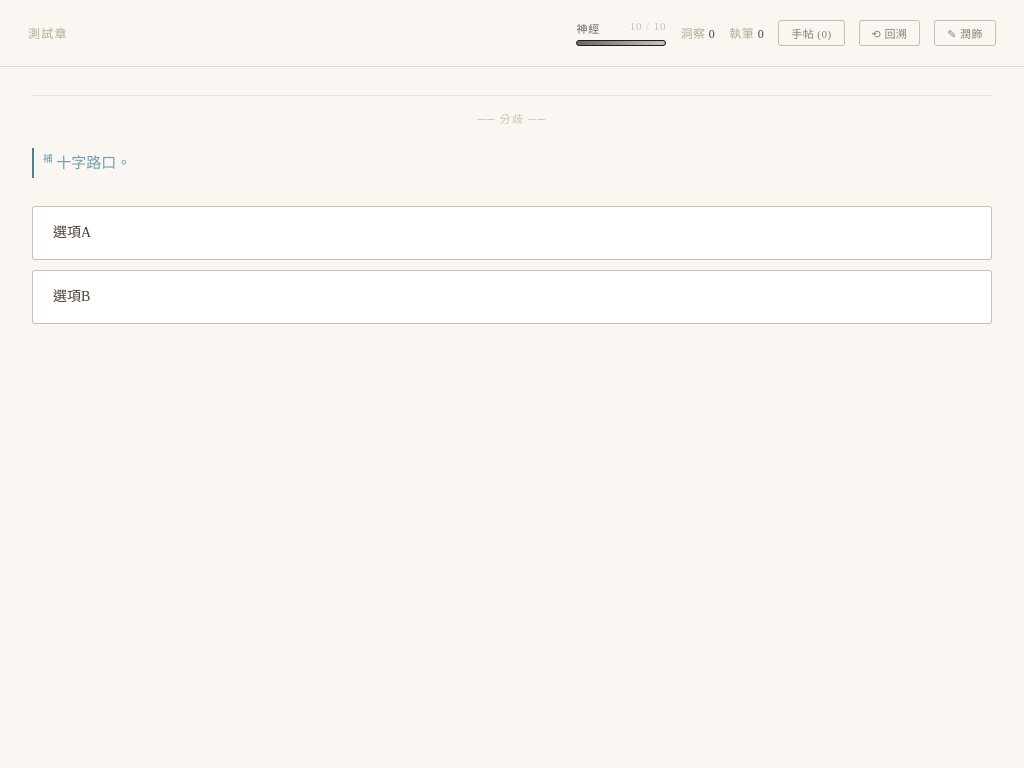
it: HagurumaEngine — 選項回溯 › 點擊 checkpoint → confirm 後恢復快照 state（深拷貝隔離：effects 造成的數值改動正確復原）
Click the button "選項A".
click(72, 232)  # box [32,206,992,260]
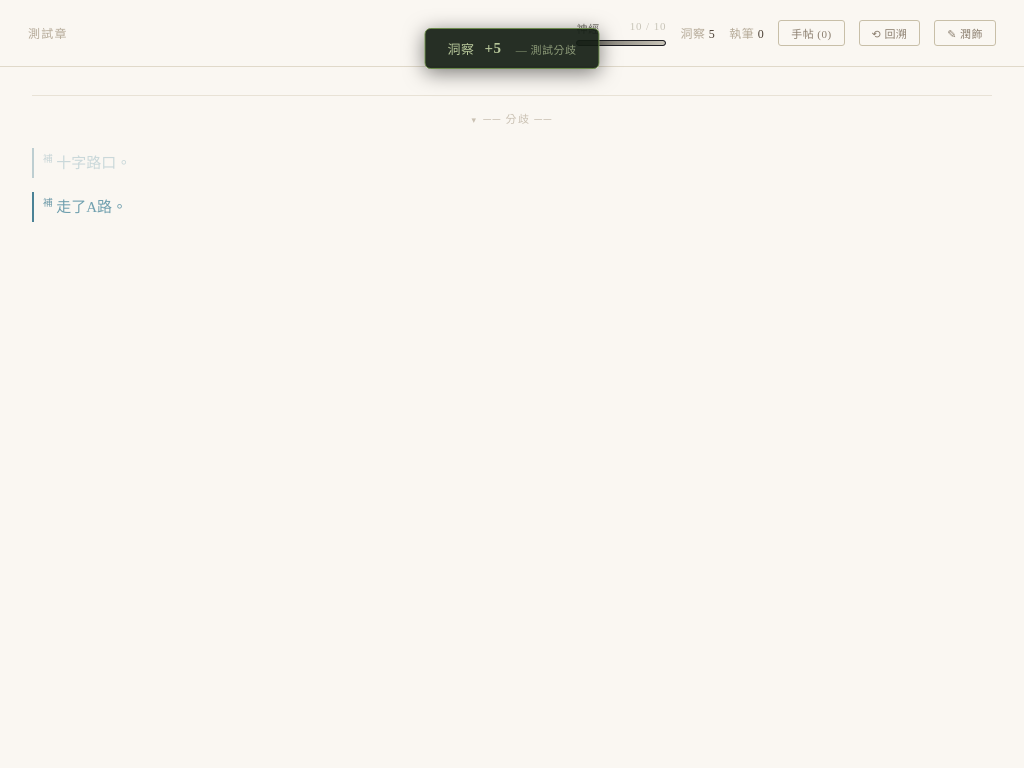
Expected: the text "走了A路。" is shown, [32,192,992,222]
Click the button "⟲ 回溯".
click(889, 33)  # box [858,20,920,46]
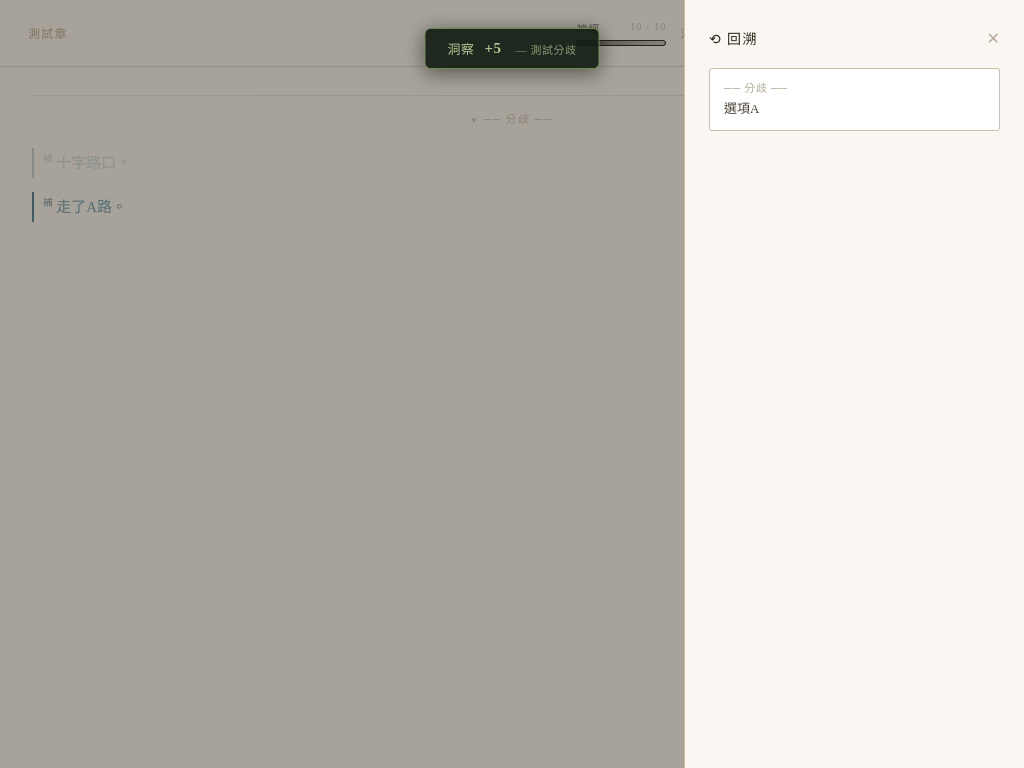
Click the button "── 分歧 ── 選項A".
click(756, 88)  # box [709,68,1000,131]
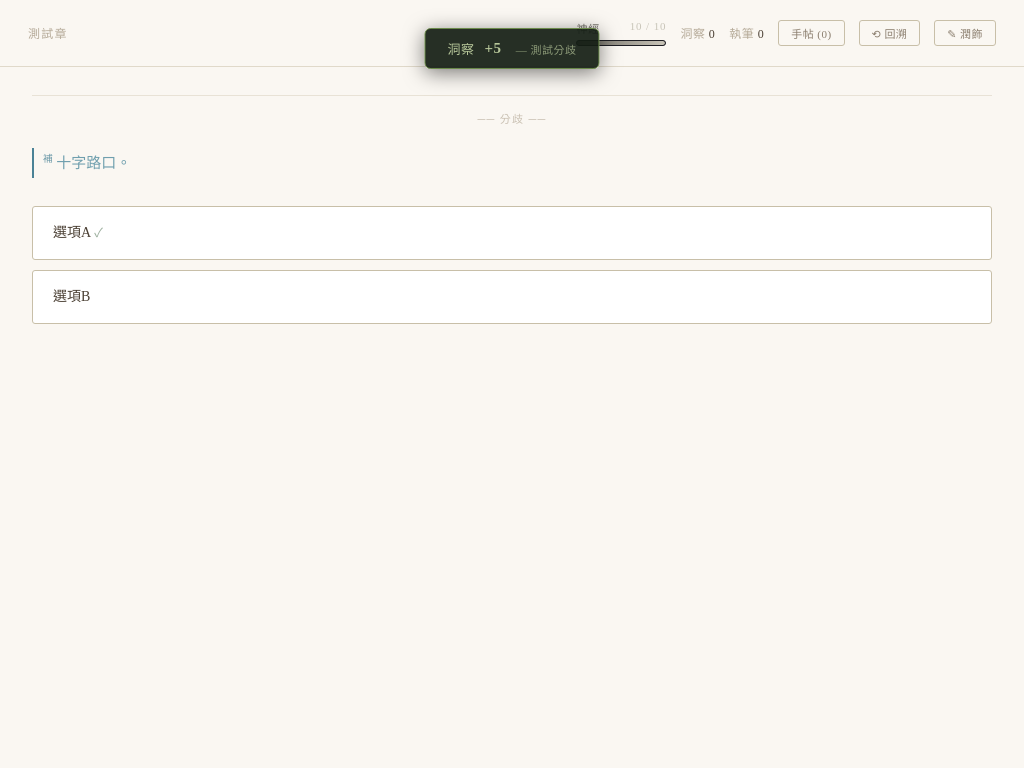
Expected: the button "選項A ✓" is shown, [32,206,992,260]
Expected: the button "選項B" is shown, [32,270,992,324]
Expected: the text "✓" is shown, [94,226,103,240]
